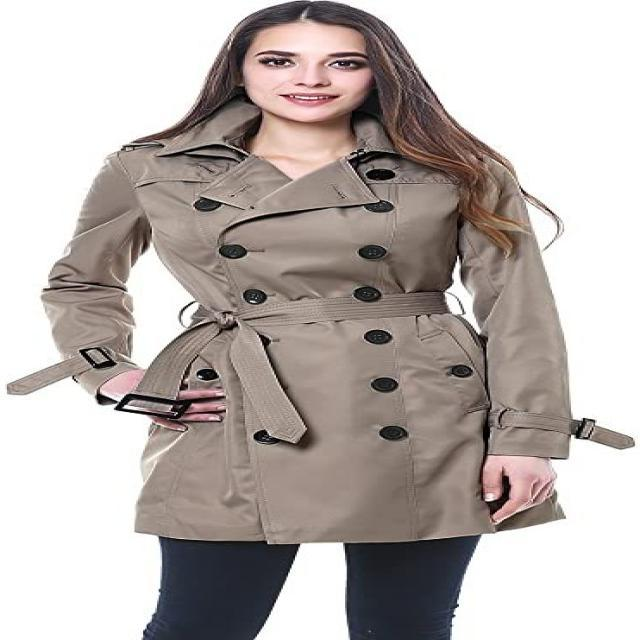coat: (38, 98, 577, 549)
trousers: (139, 522, 485, 640)
